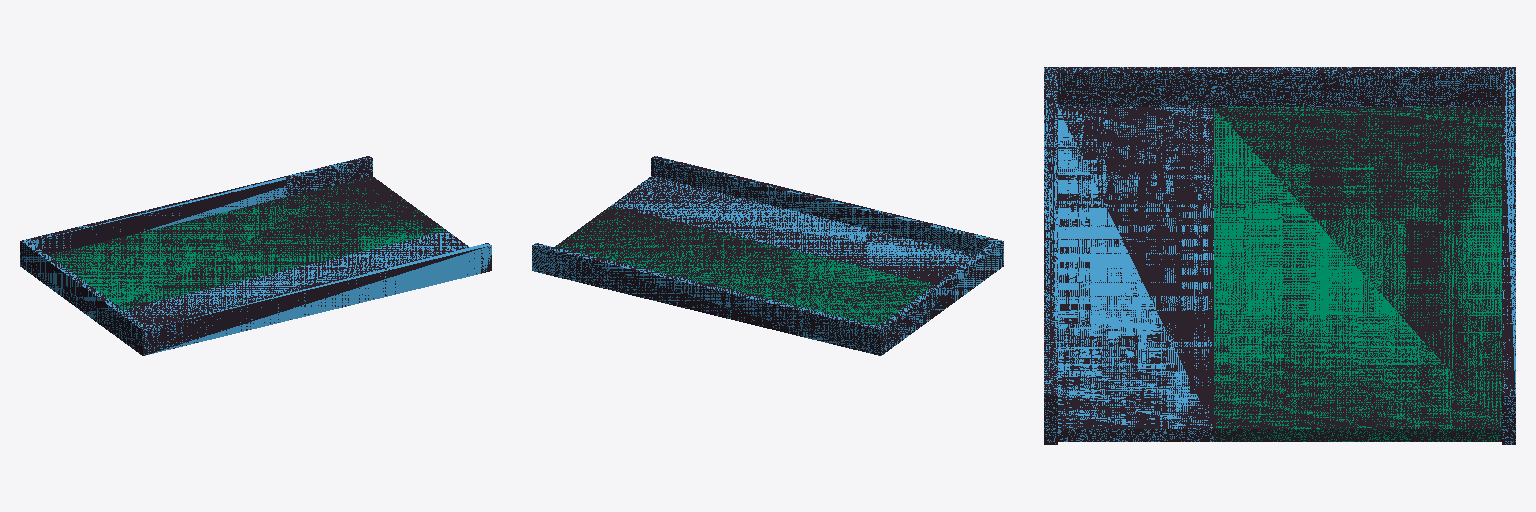
The robot description file, URDF, robot "right-pull-door":
<?xml version="1.0" ?>
<robot name="right-pull-door">
	<link name="base"/>
	<link name="link_0">
		<visual name="out-frame">
			<origin xyz="0 0 0"/>
			<geometry>
				<mesh filename="texture_dae/frame.dae" scale="0.7995914648007917 0.7995914648007917 0.7995914648007917"/>
			</geometry>
		</visual>
		<collision>
			<origin xyz="0 0 0"/>
			<geometry>
				<mesh filename="texture_dae/frame.dae" scale="0.7995914648007917 0.7995914648007917 0.7995914648007917"/>
			</geometry>
		</collision>
	</link>
	<joint name="joint_0" type="fixed">
		<origin rpy="1.570796326794897 0 -1.570796326794897" xyz="0 0 0"/>
		<child link="link_0"/>
		<parent link="base"/>
	</joint>
	<link name="link_1">
		<visual name="surf-board">
			<origin xyz="0.3198644365209349 -0.8272195872064542 0"/>
			<geometry>
				<mesh filename="texture_dae/board.dae" scale="0.7995914648007917 0.7995914648007917 0.7995914648007917"/>
			</geometry>
		</visual>
		<collision>
			<origin xyz="0.3198644365209349 -0.8272195872064542 0"/>
			<geometry>
				<mesh filename="texture_dae/board.dae" scale="0.7995914648007917 0.7995914648007917 0.7995914648007917"/>
			</geometry>
		</collision>
	</link>
	<joint name="joint_1" type="revolute">
		<origin xyz="-0.3198644365209349 0.8272195872064542 0"/>
		<axis xyz="0 -1 0"/>
		<child link="link_1"/>
		<parent link="link_0"/>
		<limit lower="0" upper="1.5079644737231006"/>
	</joint>
	<link name="link_2">
		<visual name="handle">
			<origin xyz="0 0 0"/>
			<geometry>
				<mesh filename="texture_dae/9960018.dae" scale="1.1598514574155012 1.1598514574155012 1.1598514574155012"/>
			</geometry>
		</visual>
		<collision>
			<origin xyz="0 0 0"/>
			<geometry>
				<mesh filename="texture_dae/9960018.dae" scale="1.1598514574155012 1.1598514574155012 1.1598514574155012"/>
			</geometry>
		</collision>
	</link>
	<joint name="joint_2" type="revolute">
		<origin xyz="0.5611693339618071 -0.89303187540051 0.018329714349917117"/>
		<child link="link_2"/>
		<parent link="link_1"/>
		<axis xyz="0 0 1"/>
		<limit lower="0" upper="1.5079644737231006"/>
	</joint>
</robot>

--- Render facts (derived) ---
3 views of the same robot in one strip: view 1: azimuth 30°, elevation 25°; view 2: azimuth 150°, elevation 25°; view 3: azimuth 270°, elevation 25° (orthographic).
Robot: right-pull-door — 4 links, 3 joints (2 revolute, 1 fixed); root link base; default pose: all joints at 0.
Visible links, largest first — view 1: link_0, link_1; view 2: link_0, link_1; view 3: link_1, link_0.
Link boxes in pixels (left/top/right/bottom): link_0: left=20, top=156, right=491, bottom=355; link_1: left=49, top=176, right=446, bottom=309; link_0: left=532, top=156, right=1003, bottom=355; link_1: left=555, top=206, right=933, bottom=325; link_1: left=1214, top=107, right=1501, bottom=441; link_0: left=1044, top=67, right=1515, bottom=444.
Bounding box of the posed robot: 1.72 × 1.05 × 0.2554 m (x, y, z).
Meshes: 3 distinct files referenced, 3 mesh visuals loaded (3 Collada DAE).
